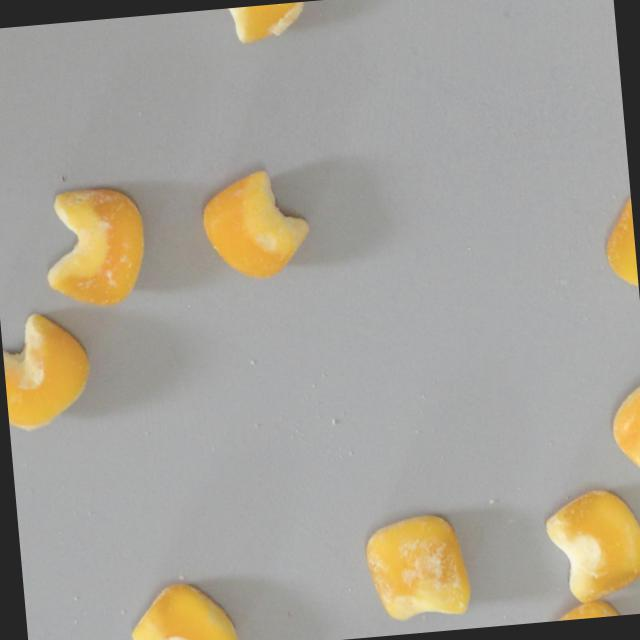no_canjicado: (0, 308, 94, 431), (600, 196, 639, 296)
pelicula: (39, 180, 149, 310), (197, 163, 314, 284), (360, 507, 472, 624), (541, 485, 640, 604), (127, 577, 238, 640), (202, 0, 308, 46), (606, 371, 640, 487), (531, 595, 640, 623)
